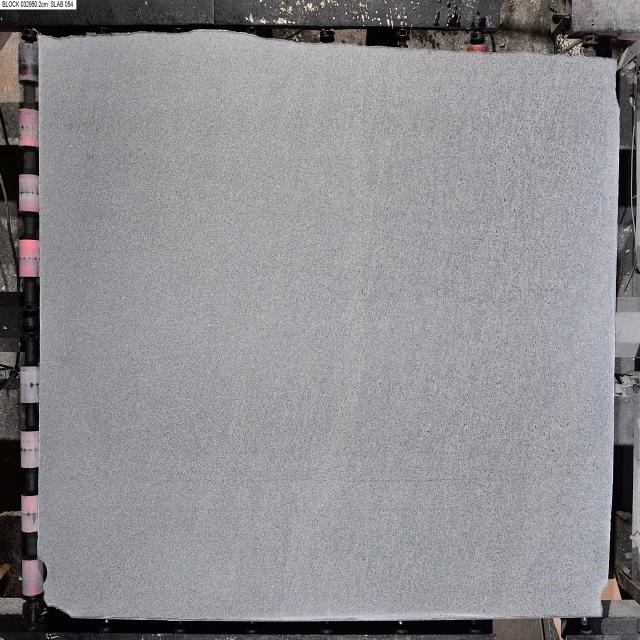chapa: (39, 30, 619, 621)
